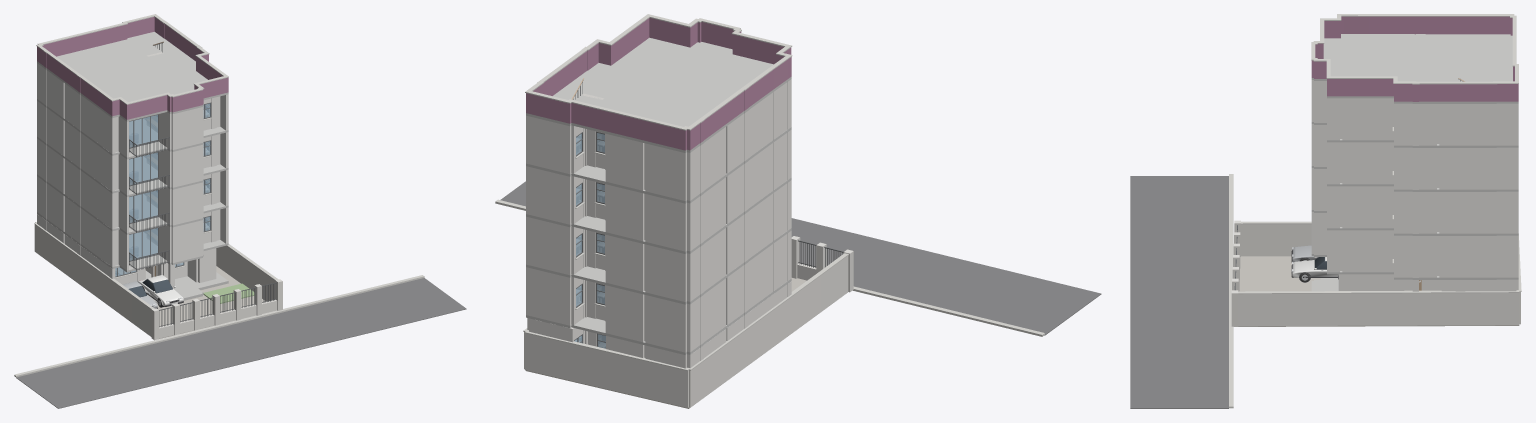
The model's file is binyam_house.glb.
3 renders of one model, left to right at view 1: azimuth 30°, elevation 25°; view 2: azimuth 150°, elevation 25°; view 3: azimuth 270°, elevation 25°, orthographic. The views are drawn at different scales.
Parts seen in each view (by area): view 1: street__asphalt, plot_fence__fence, slab_15__slab, parapet__accent, walls_4__wall, walls_1__wall, walls_2__wall, walls_3__wall, walls_0__wall, street__sillstone, parapet__sillstone, plot__paving (+23 smaller); view 2: street__asphalt, plot_fence__fence, slab_15__slab, walls_1__wall, walls_3__wall, walls_2__wall, walls_4__wall, parapet__accent, walls_0__wall, parapet__sillstone, plot_fence__sillstone, slab_12__slab (+8 smaller); view 3: street__asphalt, plot_fence__fence, slab_15__slab, walls_1__wall, walls_2__wall, walls_3__wall, walls_4__wall, parapet__accent, plot__paving, walls_0__wall, parapet__sillstone, plot_fence__sillstone (+11 smaller).
Part boxes in pixels (x1,y1,x2,y2): street__asphalt: (16, 278, 466, 408); plot_fence__fence: (34, 224, 282, 340); slab_15__slab: (37, 31, 228, 121); parapet__accent: (37, 17, 228, 119); walls_4__wall: (37, 63, 228, 157); walls_1__wall: (37, 176, 228, 270); walls_2__wall: (37, 138, 228, 232); walls_3__wall: (37, 101, 228, 195); walls_0__wall: (37, 214, 211, 282); street__sillstone: (14, 275, 424, 377); parapet__sillstone: (36, 14, 228, 104); plot__paving: (157, 266, 266, 338); street__asphalt: (500, 181, 1101, 335); plot_fence__fence: (524, 236, 853, 407); slab_15__slab: (526, 37, 791, 152); walls_1__wall: (526, 233, 787, 352); walls_3__wall: (526, 132, 787, 251); walls_2__wall: (526, 183, 787, 301); walls_4__wall: (526, 82, 787, 200); parapet__accent: (526, 18, 791, 150); walls_0__wall: (527, 284, 787, 368); parapet__sillstone: (525, 14, 792, 130); plot_fence__sillstone: (523, 253, 848, 370); slab_12__slab: (526, 127, 791, 203); street__asphalt: (1130, 176, 1228, 408); plot_fence__fence: (1231, 220, 1520, 326); slab_15__slab: (1311, 34, 1518, 103); walls_1__wall: (1311, 212, 1518, 277); walls_2__wall: (1311, 168, 1518, 233); walls_3__wall: (1311, 124, 1518, 189); walls_4__wall: (1311, 80, 1518, 145); parapet__accent: (1311, 16, 1518, 101); plot__paving: (1238, 256, 1519, 326); walls_0__wall: (1338, 274, 1518, 291); parapet__sillstone: (1311, 14, 1518, 84); plot_fence__sillstone: (1238, 221, 1521, 294).
Bounding box in the file's own units: 34 × 16.6 × 24.17.
